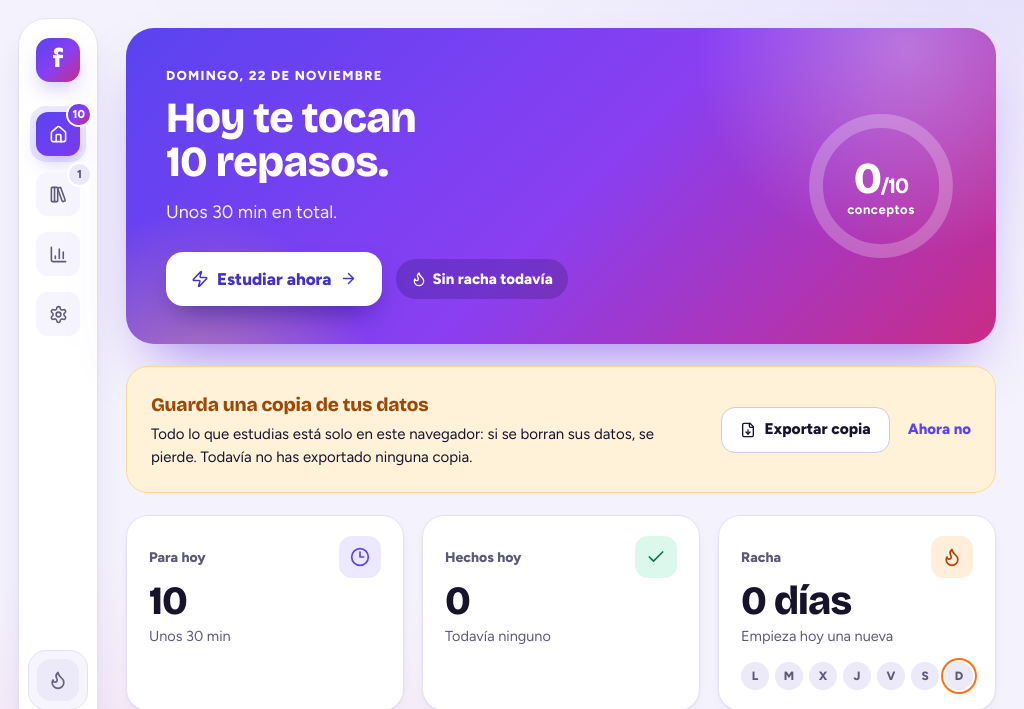
it: copia de seguridad y ajustes › recuerda guardar una copia cuando hay trabajo acumulado y «Ahora no» lo pospone
Click the button "Ahora no" at point(939, 430), box [900,412,979,448]
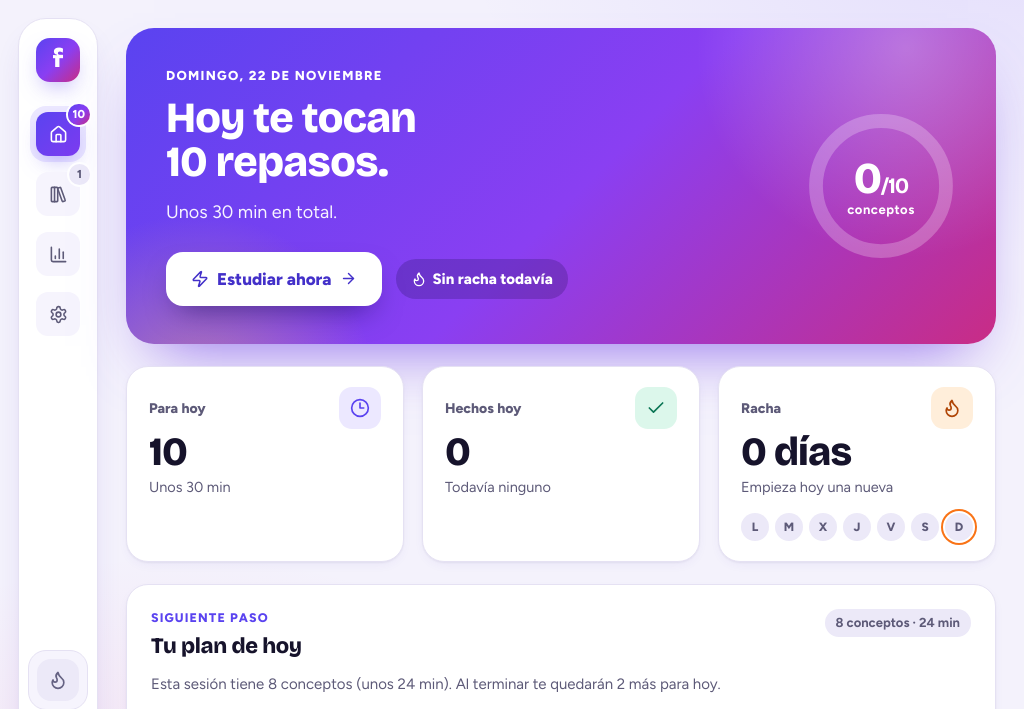
Now the text "Guarda una copia de tus datos" is gone
